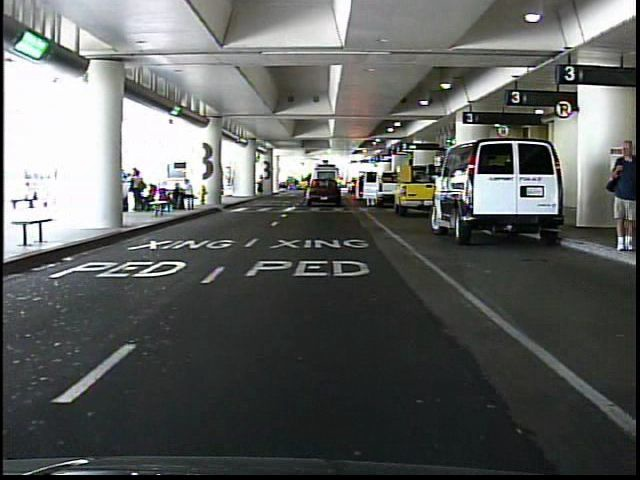person: (601, 132, 637, 255), (257, 172, 268, 196)
